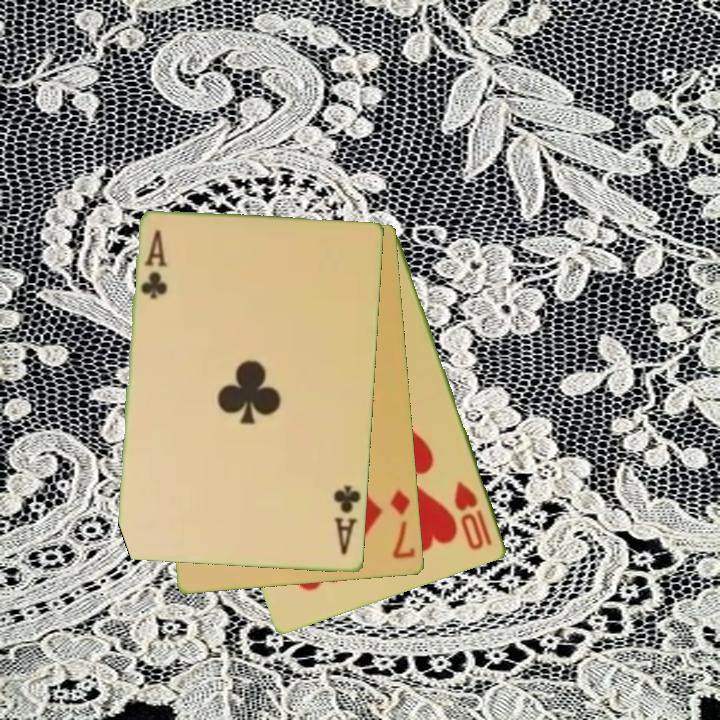10h: (451, 477, 496, 553)
7d: (387, 486, 419, 562)
Ac: (330, 482, 364, 558), (137, 226, 171, 302)
